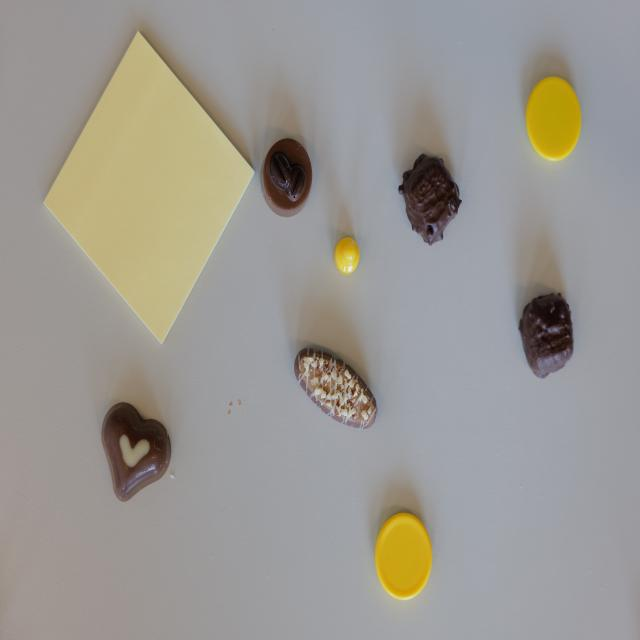Amandina: (294, 348, 377, 430)
Arabia: (261, 138, 313, 217)
Passion_au_lait: (100, 400, 172, 501)
Tentation_noir: (398, 152, 464, 248), (518, 292, 574, 378)
